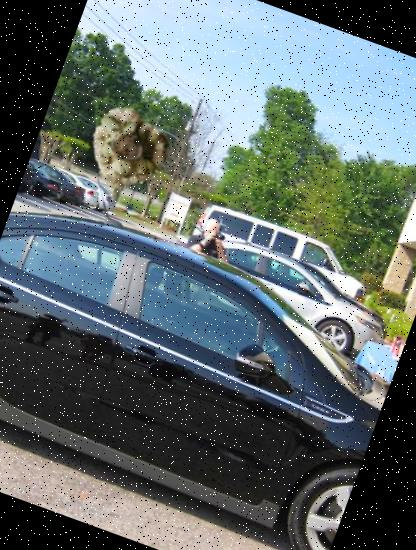Cauliflower: (76, 92, 182, 196)
